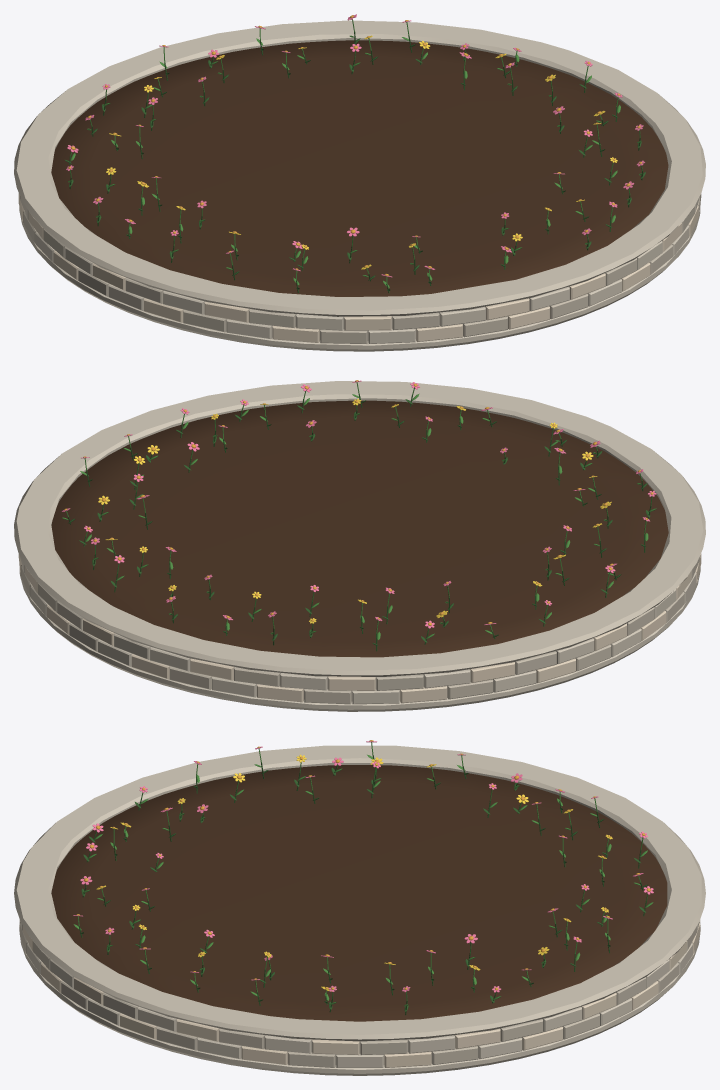
The model's file is bed.glb.
The picture shows the model from 3 angles, top to bottom: view 1: azimuth 30°, elevation 25°; view 2: azimuth 150°, elevation 25°; view 3: azimuth 270°, elevation 25°; orthographic projection.
Parts seen in each view (by area): view 1: soil1, stone0, stoneWarm170, stone168, stoneCool172, stoneCool166, stoneCool82, stone174, stone84, stoneWarm80, stoneWarm164, stone78 (+10 smaller); view 2: soil1, stone0, stoneWarm140, stoneCool142, stone138, stone144, stoneCool52, stoneCool136, stoneWarm56, stone54, stoneWarm146, stoneWarm50 (+10 smaller); view 3: soil1, stone0, stoneWarm110, stoneCool112, stone108, stone114, stoneCool22, stoneWarm26, stoneWarm20, stoneCool28, stoneCool106, stoneWarm116 (+9 smaller).
Boxes of the visible parts, x1,y1,x2,y2 form: soil1: (51, 40, 668, 296); stone0: (14, 20, 705, 351); stoneWarm170: (344, 316, 391, 330); stone168: (296, 314, 343, 330); stoneCool172: (392, 312, 439, 330); stoneCool166: (249, 309, 296, 328); stoneCool82: (320, 329, 367, 343); stone174: (439, 306, 485, 326); stone84: (368, 328, 415, 343); stoneWarm80: (272, 325, 319, 342); stoneWarm164: (204, 301, 249, 322); stone78: (226, 319, 272, 338); soil1: (51, 400, 668, 657); stone0: (14, 381, 705, 711); stoneWarm140: (328, 676, 375, 690); stoneCool142: (376, 674, 423, 690); stone138: (280, 673, 327, 690); stone144: (423, 669, 470, 688); stoneCool52: (304, 689, 351, 704); stoneCool136: (234, 667, 280, 686); stoneWarm56: (400, 686, 447, 703); stone54: (352, 689, 399, 704); stoneWarm146: (470, 662, 515, 682); stoneWarm50: (257, 684, 303, 702); soil1: (51, 765, 667, 1021); stone0: (14, 745, 705, 1075); stoneWarm110: (312, 1039, 359, 1055); stoneCool112: (360, 1039, 407, 1055); stone108: (264, 1035, 311, 1053); stone114: (408, 1035, 455, 1053); stoneCool22: (288, 1051, 335, 1067); stoneWarm26: (384, 1051, 431, 1067); stoneWarm20: (241, 1046, 288, 1064); stoneCool28: (431, 1046, 478, 1064); stoneCool106: (219, 1028, 265, 1049); stoneWarm116: (454, 1028, 500, 1049).
Size of the model in its own units: 6.5 by 0.7872 by 6.5.
